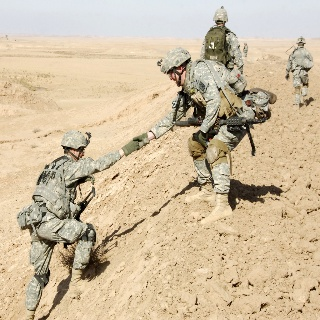rifle: (171, 111, 265, 134)
